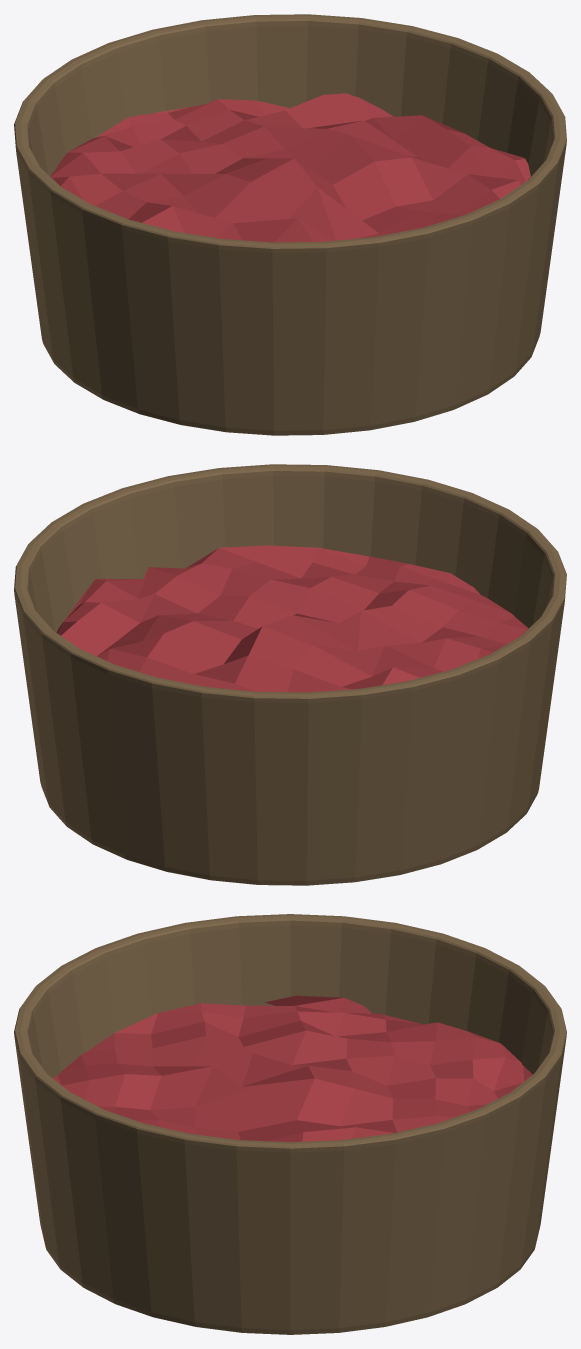
Rendered from Sambal 1.fbx.
The picture shows the model from 3 angles, top to bottom: view 1: azimuth 30°, elevation 25°; view 2: azimuth 150°, elevation 25°; view 3: azimuth 270°, elevation 25°; orthographic projection.
Parts seen in each view (by area): view 1: Cylinder; view 2: Cylinder; view 3: Cylinder.
Boxes of the visible parts, left/top/right/bottom form: Cylinder: left=14, top=14, right=566, bottom=435; Cylinder: left=14, top=464, right=566, bottom=885; Cylinder: left=14, top=914, right=566, bottom=1334.
Size of the model in its own units: 112 by 44.8 by 112.
